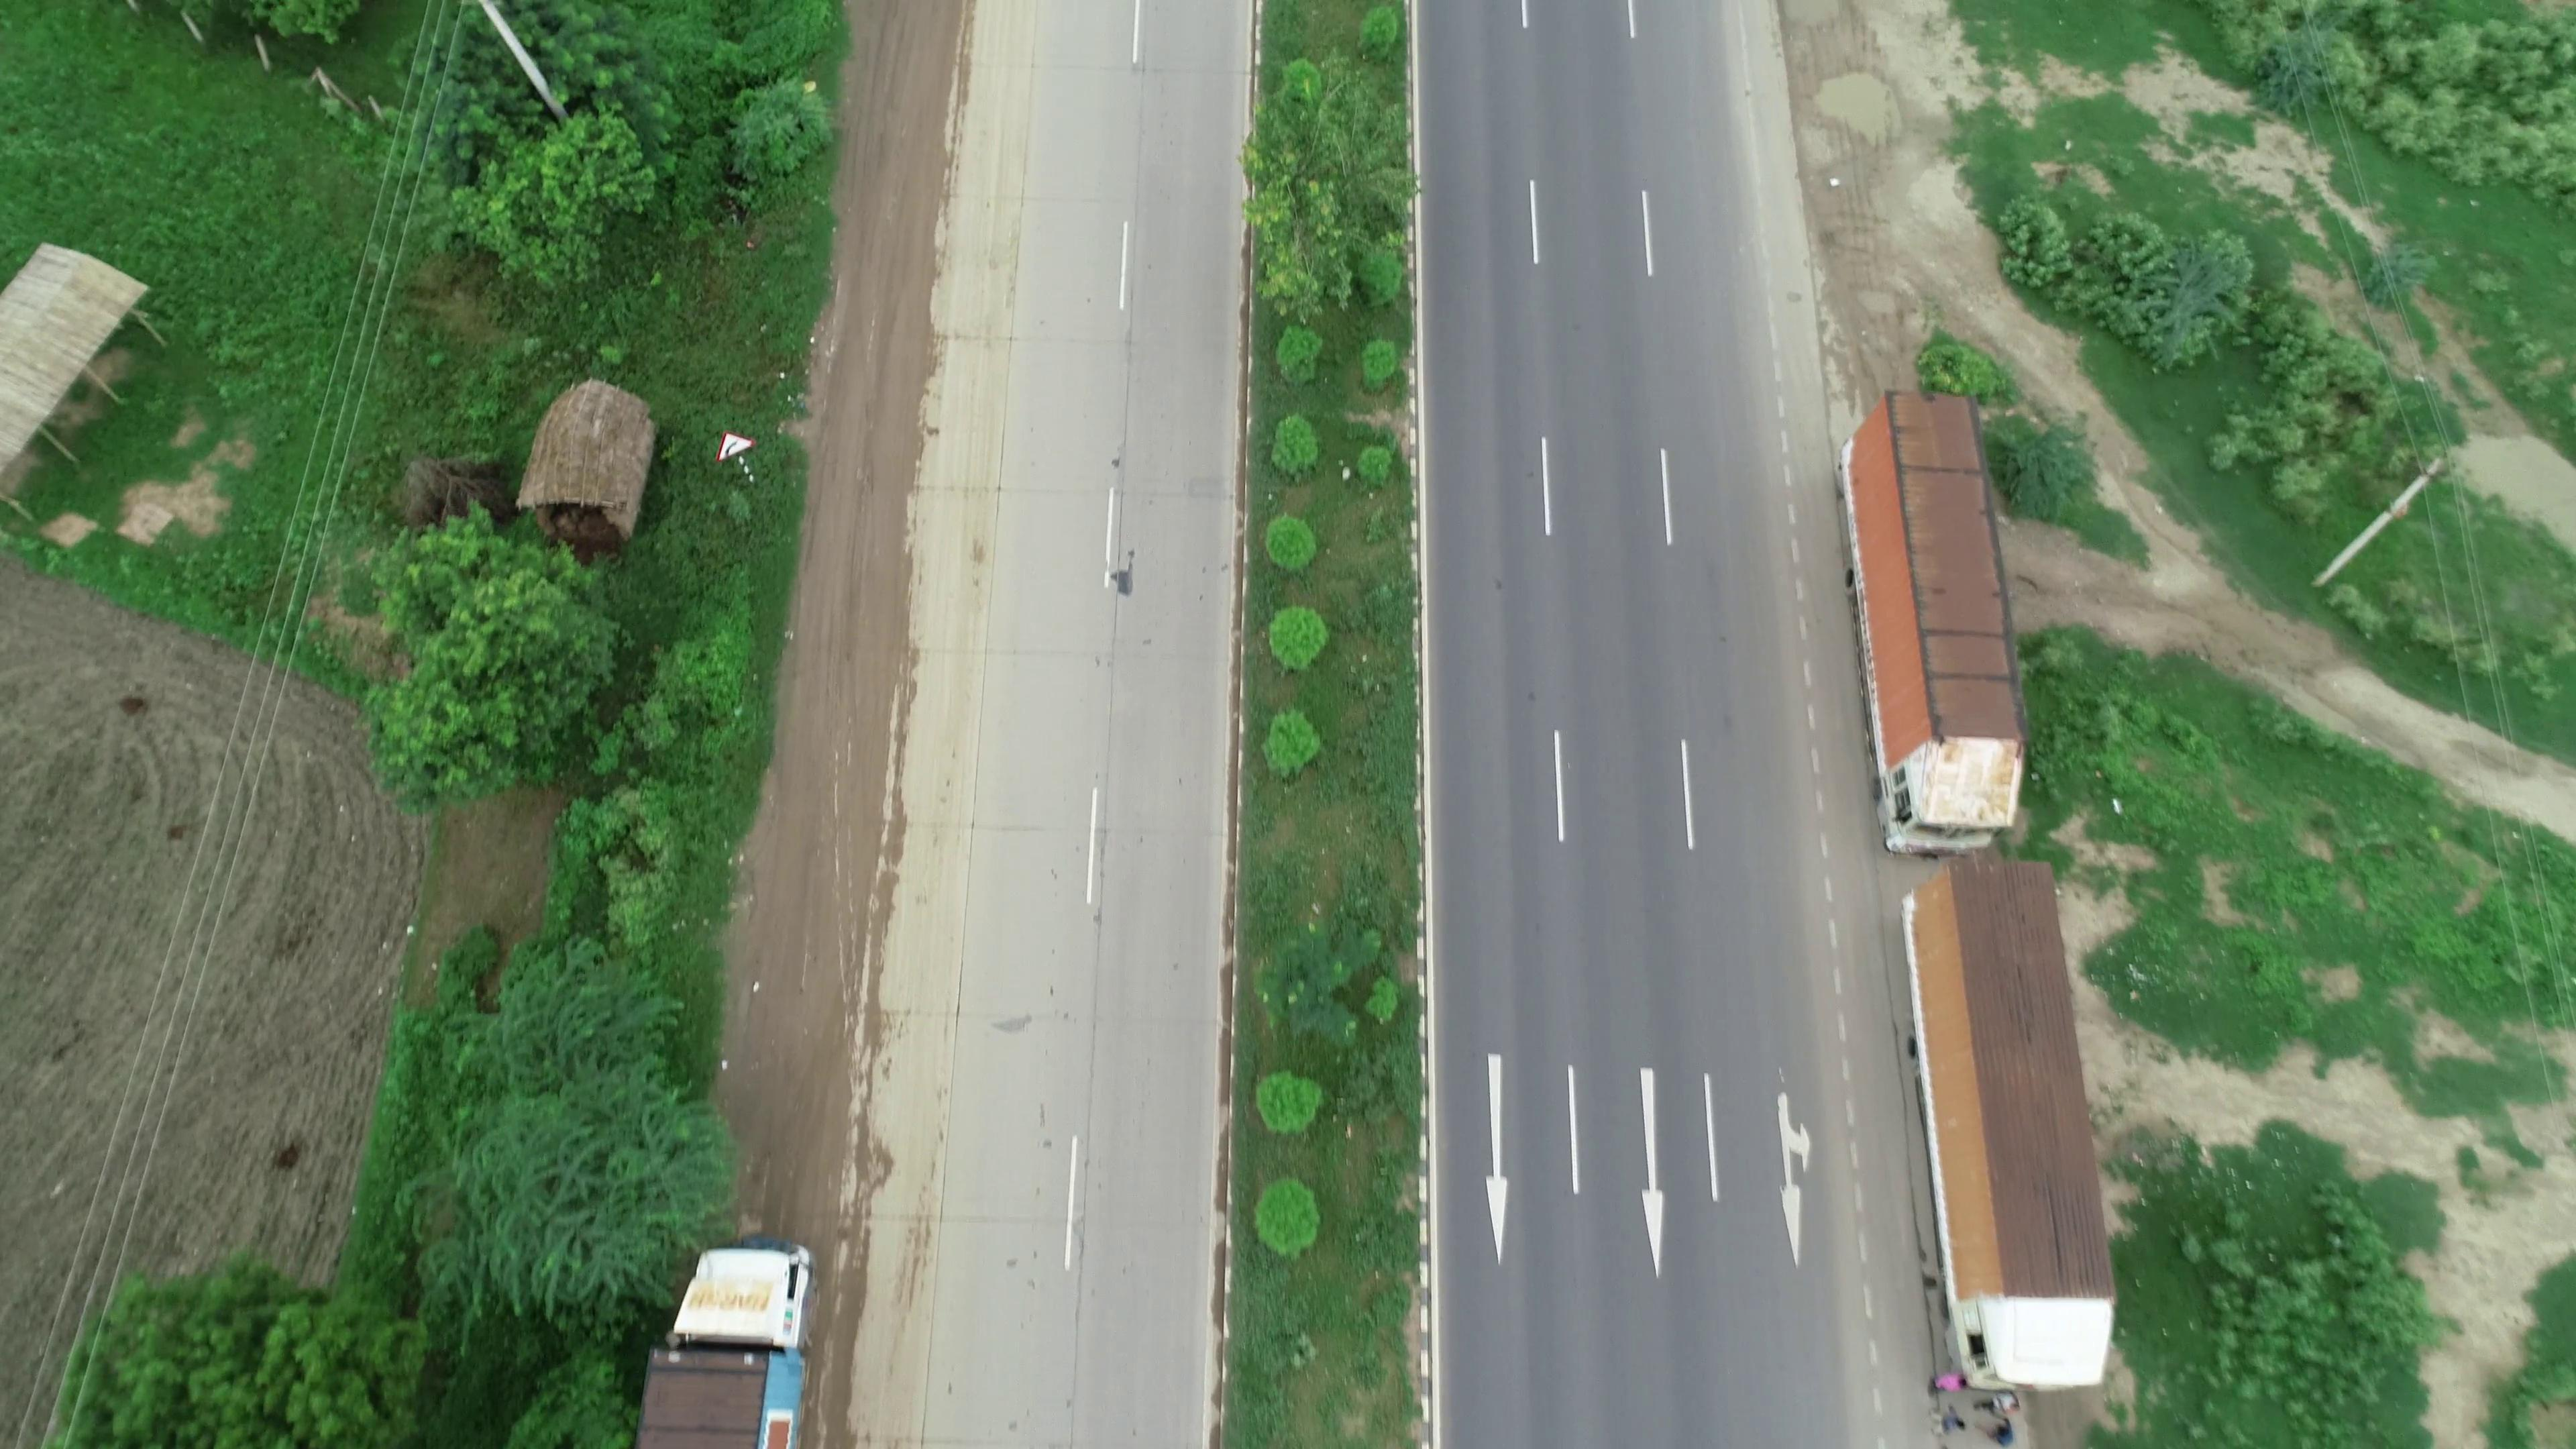Muddy_road: (763, 596, 961, 1145), (809, 41, 1010, 571)
